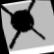not correct: (0, 0, 50, 49)
